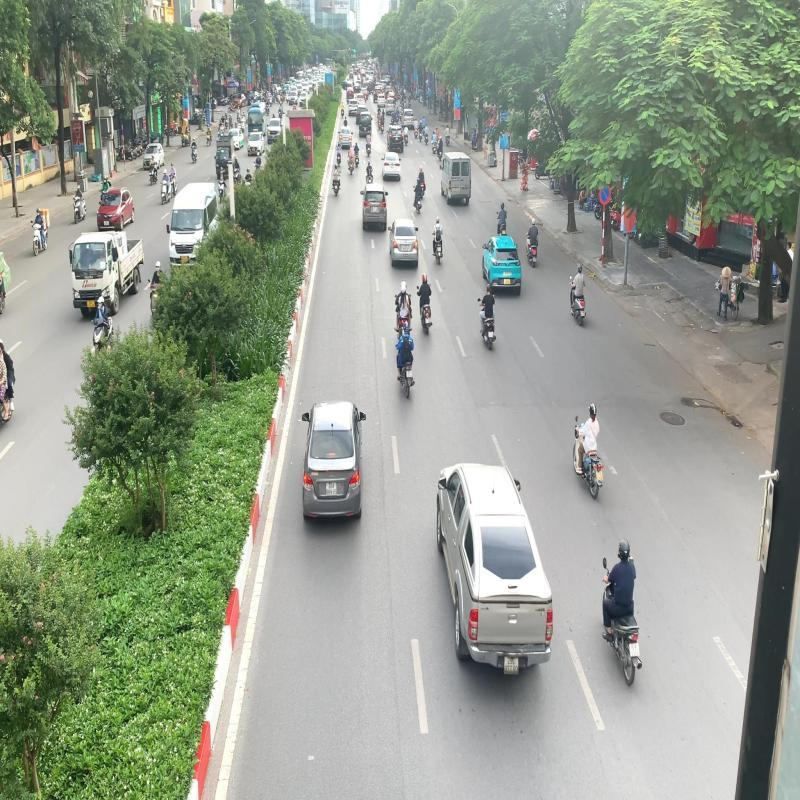helmet: (617, 538, 631, 560), (588, 402, 597, 416), (403, 321, 409, 332), (486, 284, 492, 294)
licenseplate: (628, 642, 640, 658), (596, 470, 604, 481), (406, 369, 412, 378), (488, 330, 493, 338)
motorcyclist: (601, 536, 643, 688), (572, 403, 604, 500), (395, 320, 415, 398), (477, 284, 497, 351)
